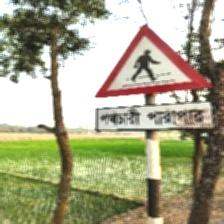Pedestrian-crossing: (93, 22, 214, 132)
